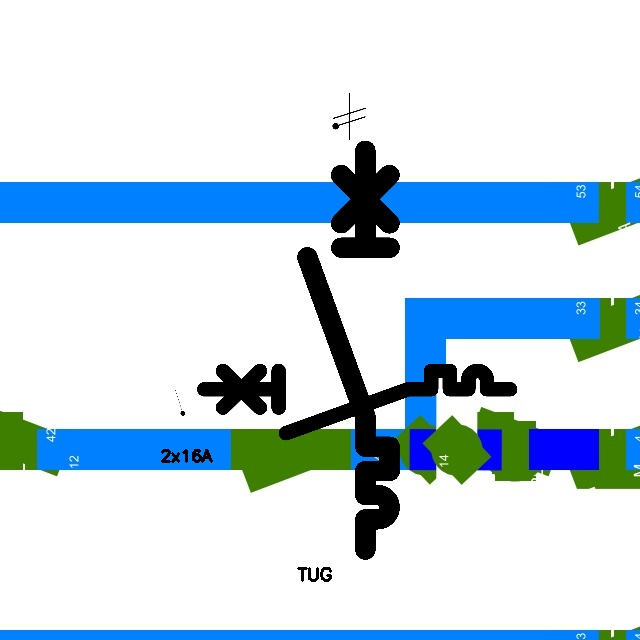interruptor_termomagnetico: (297, 140, 400, 560), (196, 363, 517, 441)
